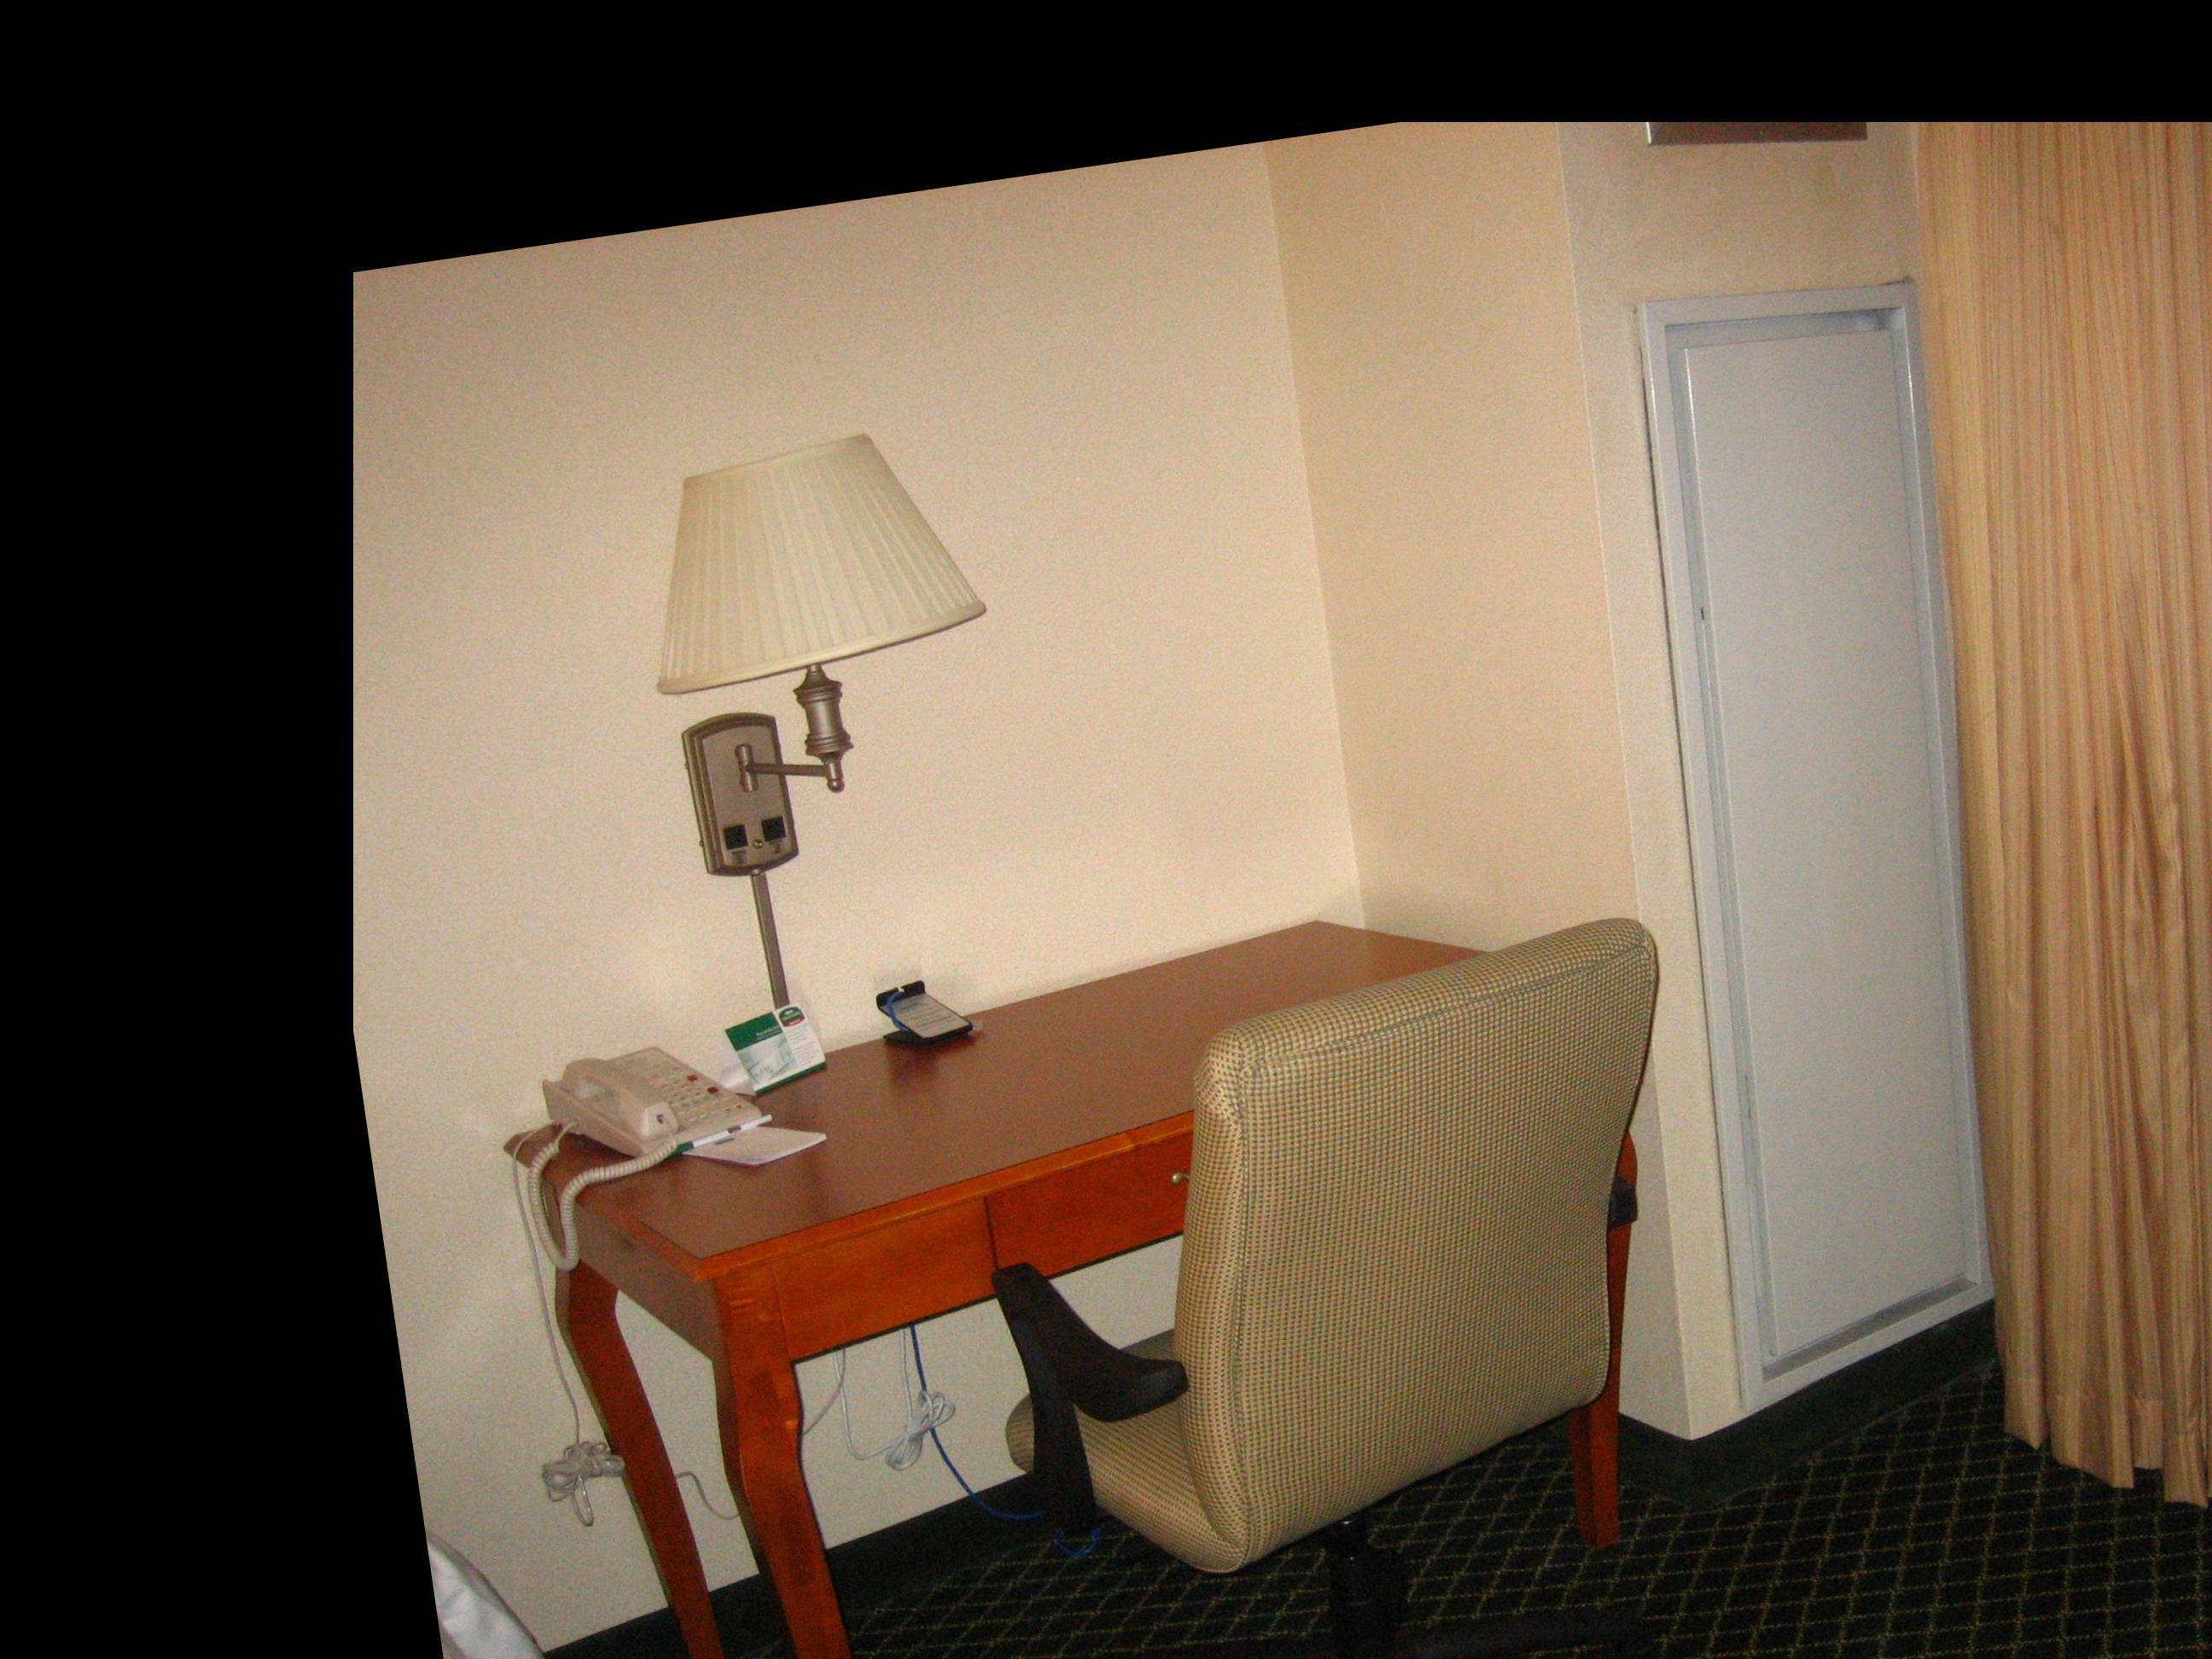Armario: (1635, 317, 2005, 1377)
